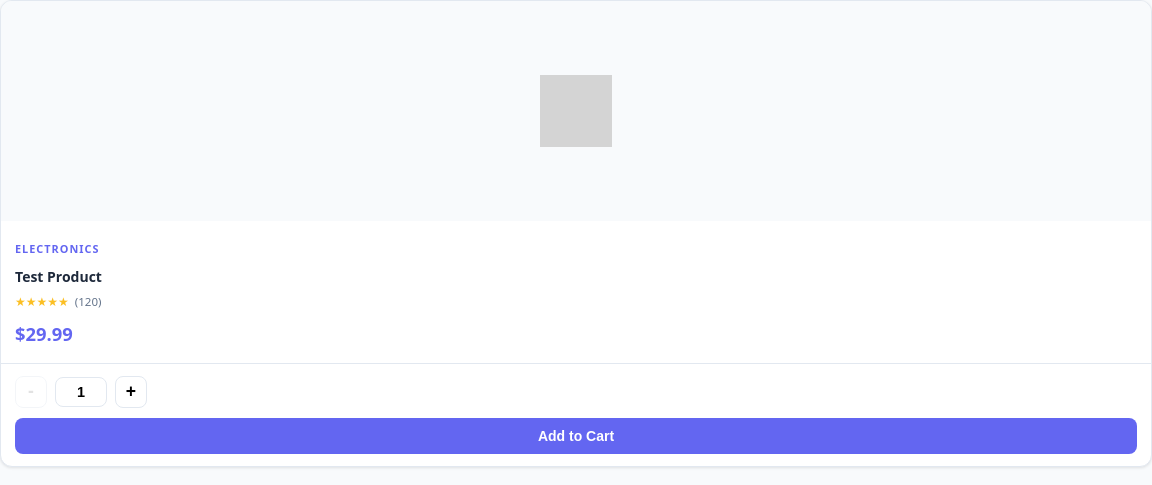
Test: ProductCard › increment button increases quantity
Click the button named "increase quantity" at (131, 392), box [115,376,147,408]
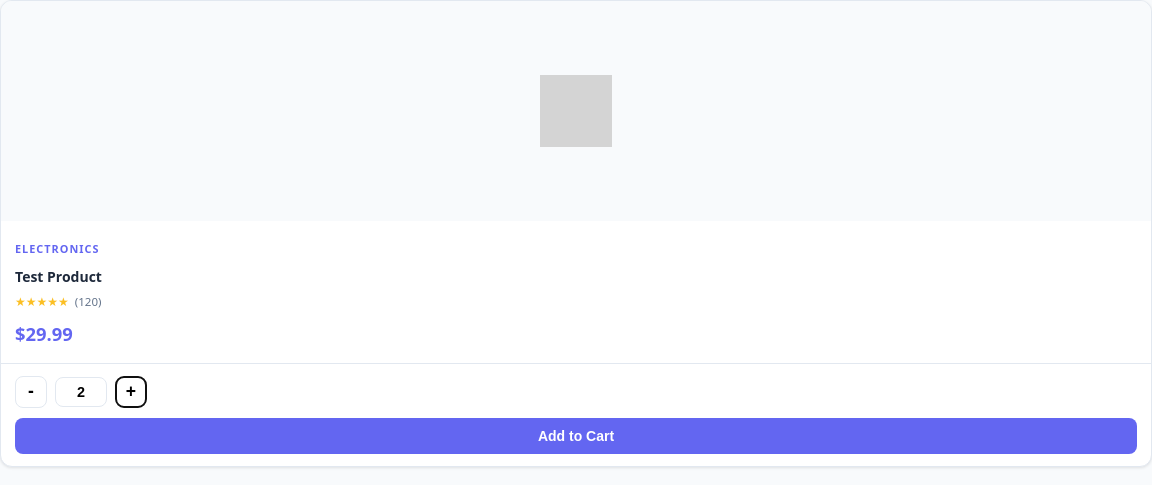
Check: the number field named "quantity" holds "2", box [55,377,107,407]
